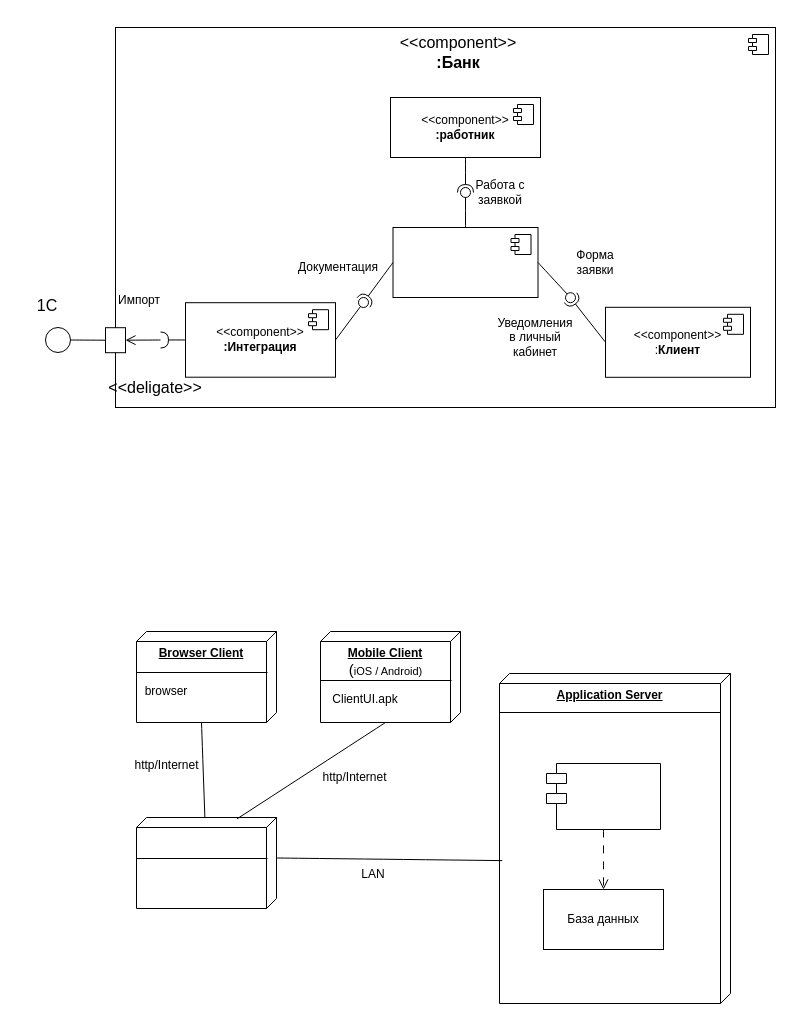
This 793x1021 diagram has some shape labels left out. The centre of each missing label's shape, as x and y in pixels:
"<<component>> :Заявка" goes at (465,262).
"main.exe" goes at (603,796).
"Web server" goes at (206,862).
